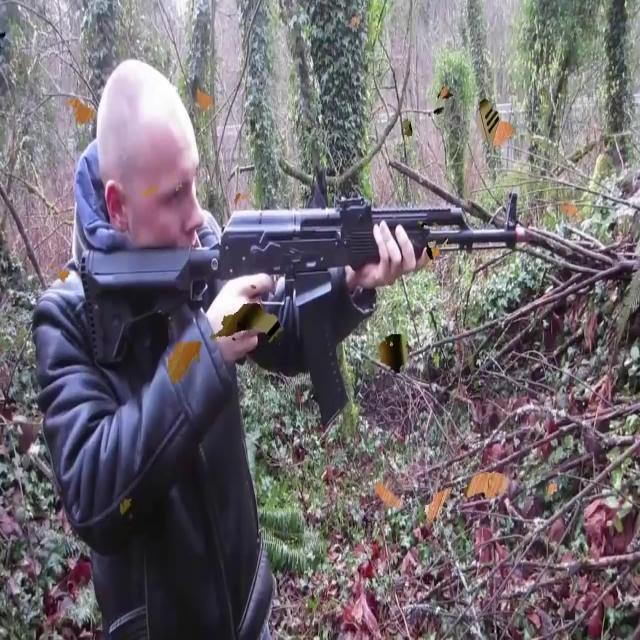Weapon: (52, 153, 543, 440)
